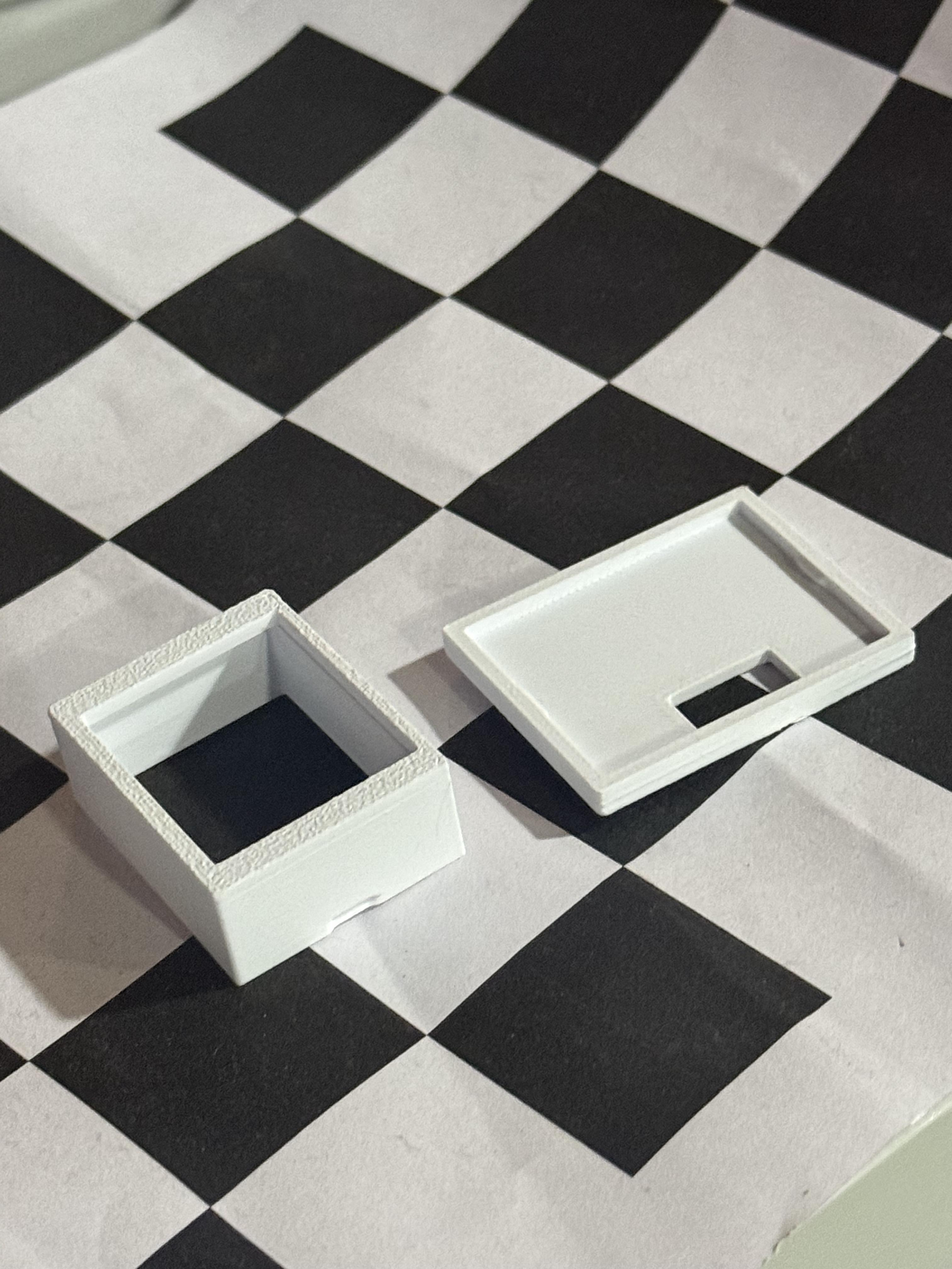enclosure: (48, 589, 466, 987), (443, 485, 918, 817)
